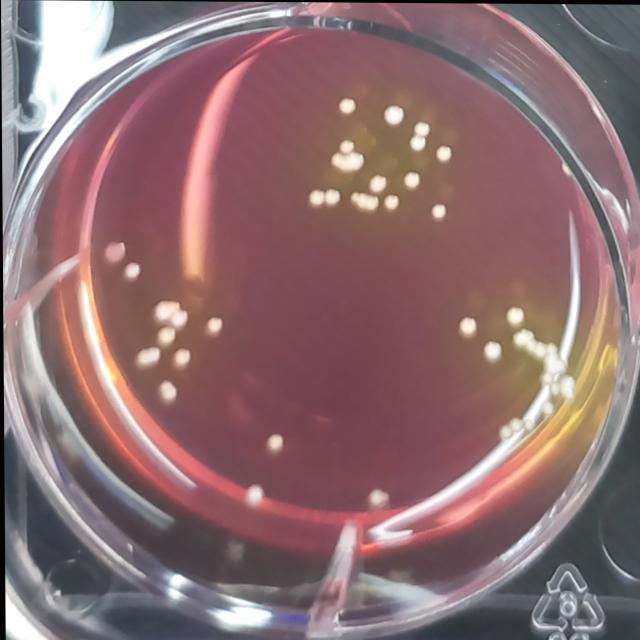StaphyloPositive: (508, 327, 568, 381), (326, 140, 365, 171), (151, 295, 182, 325), (239, 481, 267, 509), (154, 378, 180, 406), (102, 238, 128, 266), (349, 191, 382, 213), (380, 102, 406, 127), (479, 339, 505, 363), (203, 312, 227, 338), (132, 347, 160, 367), (501, 302, 525, 325), (433, 140, 456, 164), (455, 315, 479, 337), (363, 487, 388, 507), (336, 93, 358, 115), (166, 309, 188, 331), (367, 173, 390, 193), (172, 346, 192, 369), (305, 187, 326, 207), (427, 200, 447, 221), (155, 326, 175, 347), (380, 192, 400, 212), (262, 430, 281, 451), (322, 187, 344, 205), (410, 119, 432, 137), (400, 169, 420, 188), (407, 135, 428, 153), (123, 260, 141, 280), (496, 422, 514, 440), (537, 399, 553, 415), (506, 416, 522, 432), (521, 417, 535, 433)
